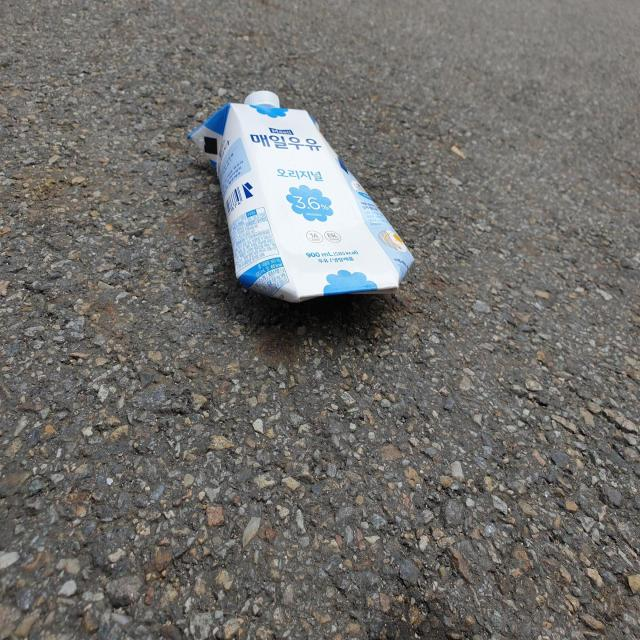paperpack: (189, 89, 414, 301)
